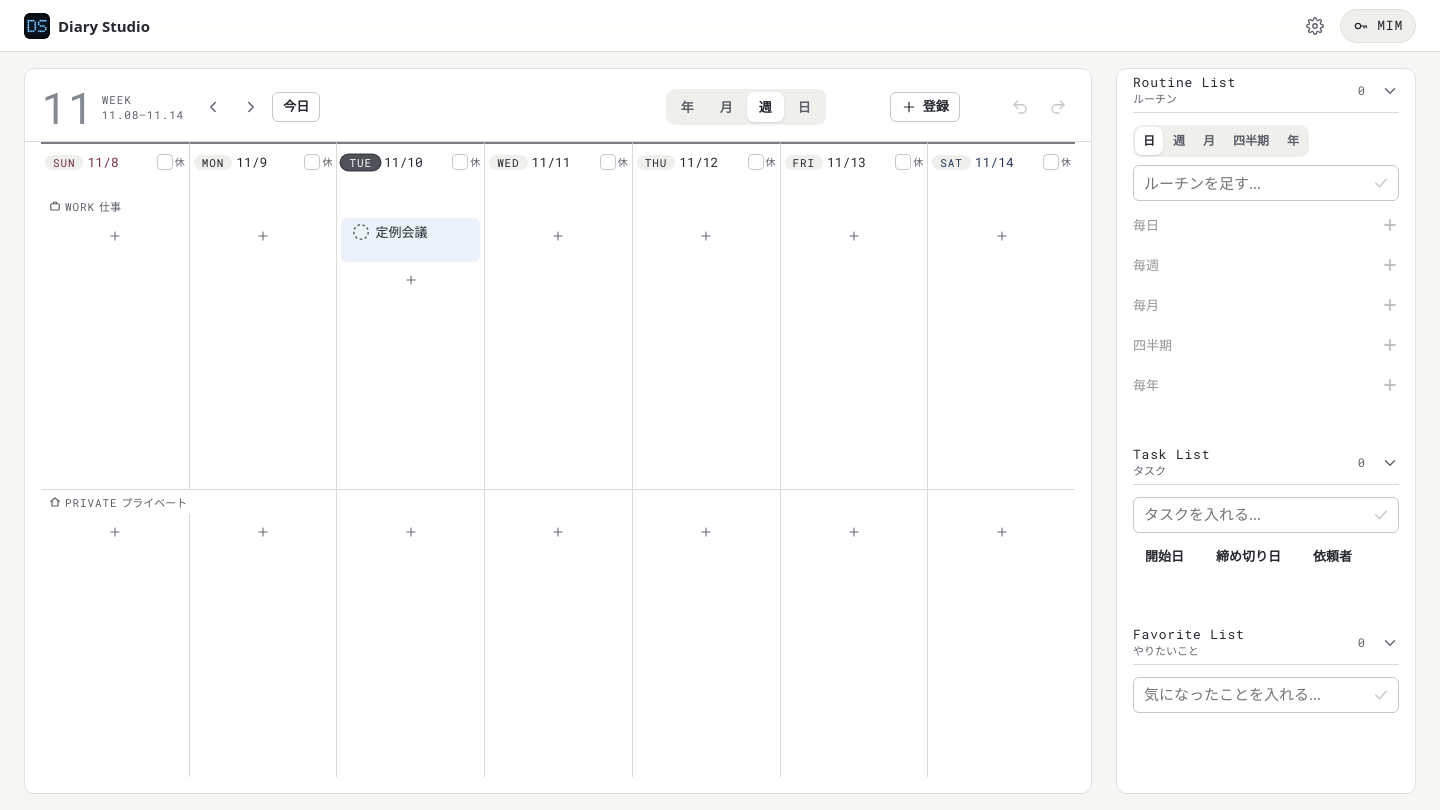
Test: 押す › ボタンで戻すと、その操作のお知らせ（［元に戻す］）を消す
The image size is (1440, 810).
Click the button with test id "done-a": (361, 232) [345, 218, 377, 246]
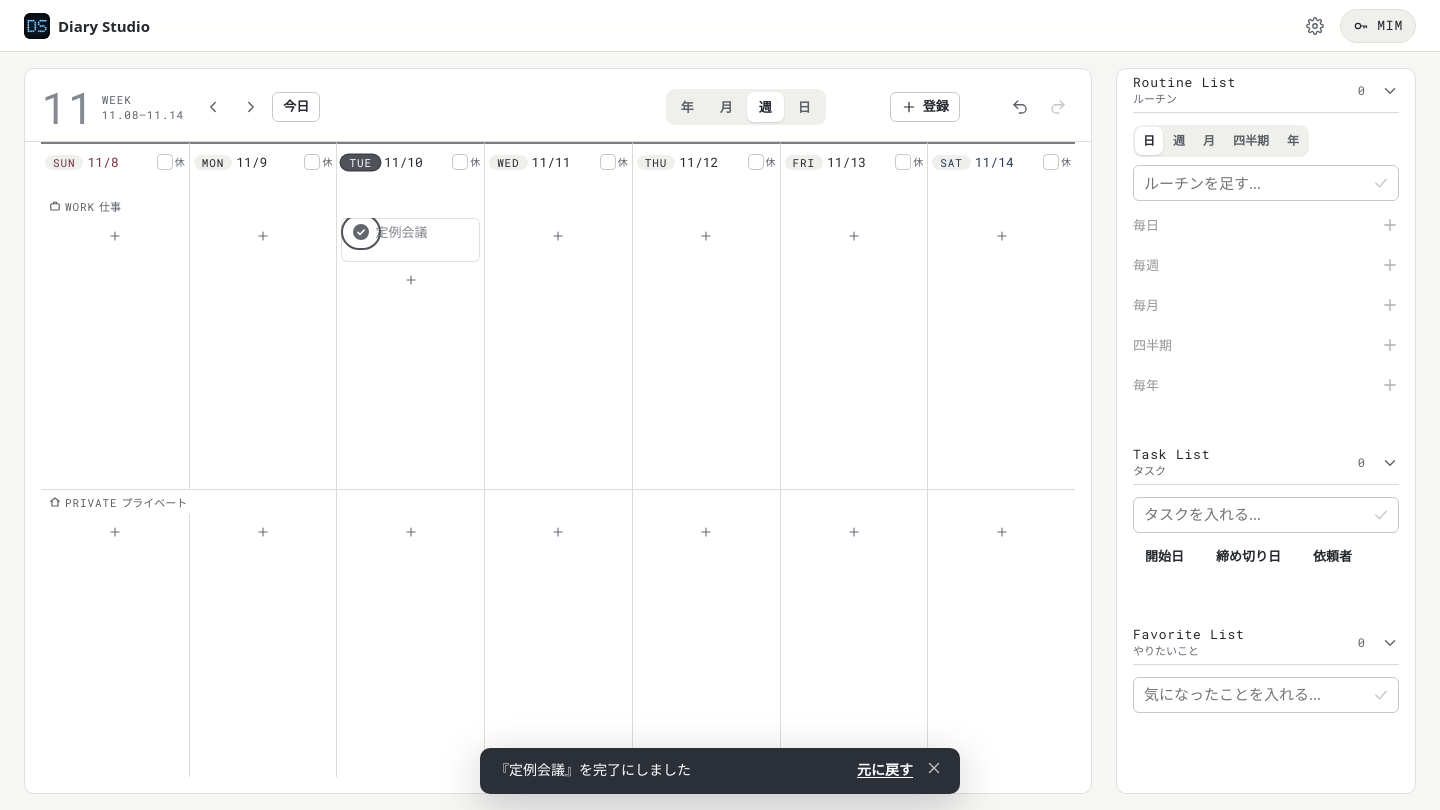
Result: the text "『定例会議』を完了にしました" is shown at [495, 760, 691, 779]
Click the 1st button with test id "cal-undo": (1020, 107) [1003, 90, 1037, 124]
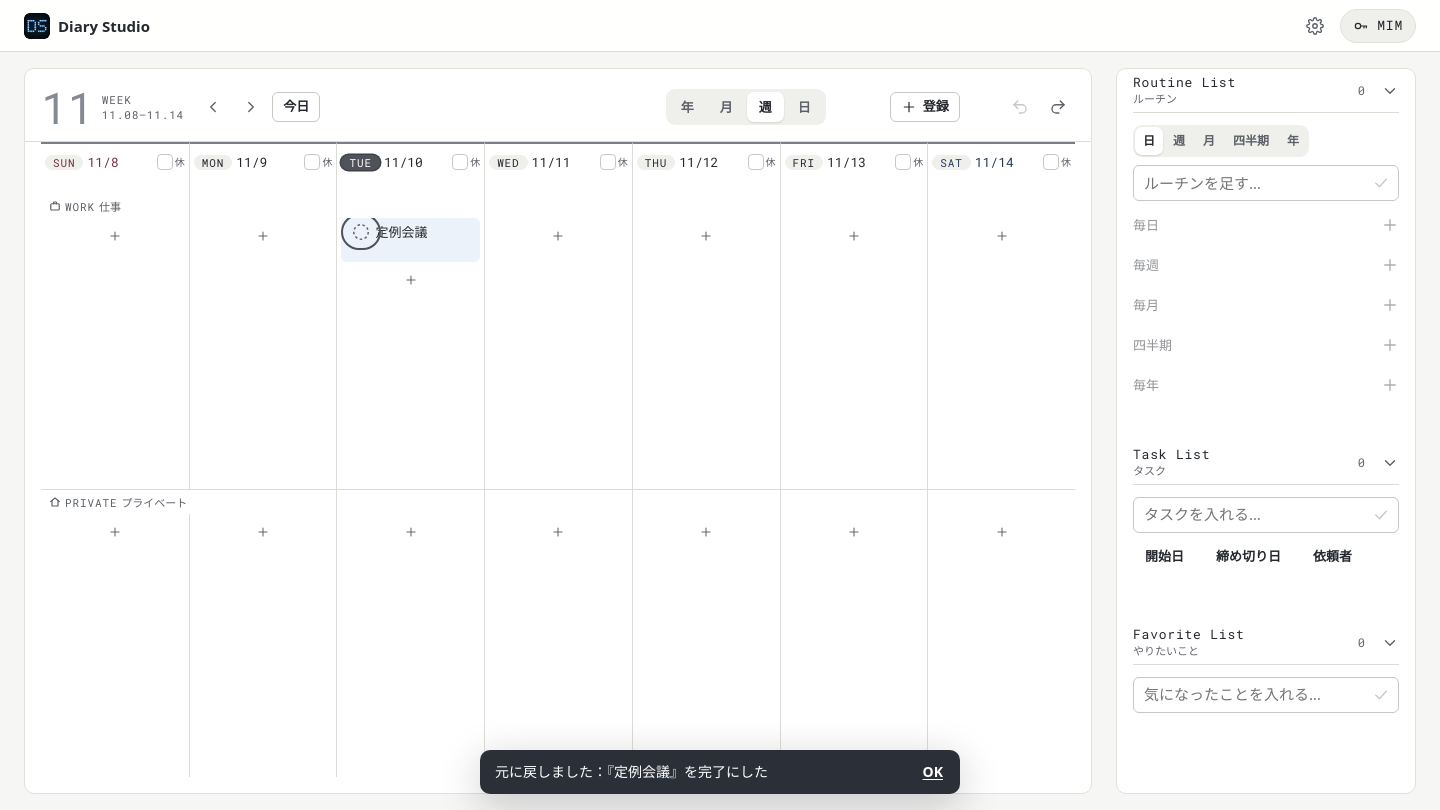
Result: the text "『定例会議』を完了にしました" is gone
